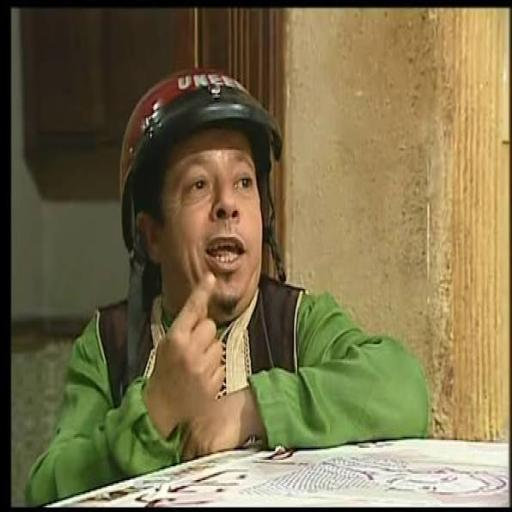fouchika: (138, 128, 261, 310)
